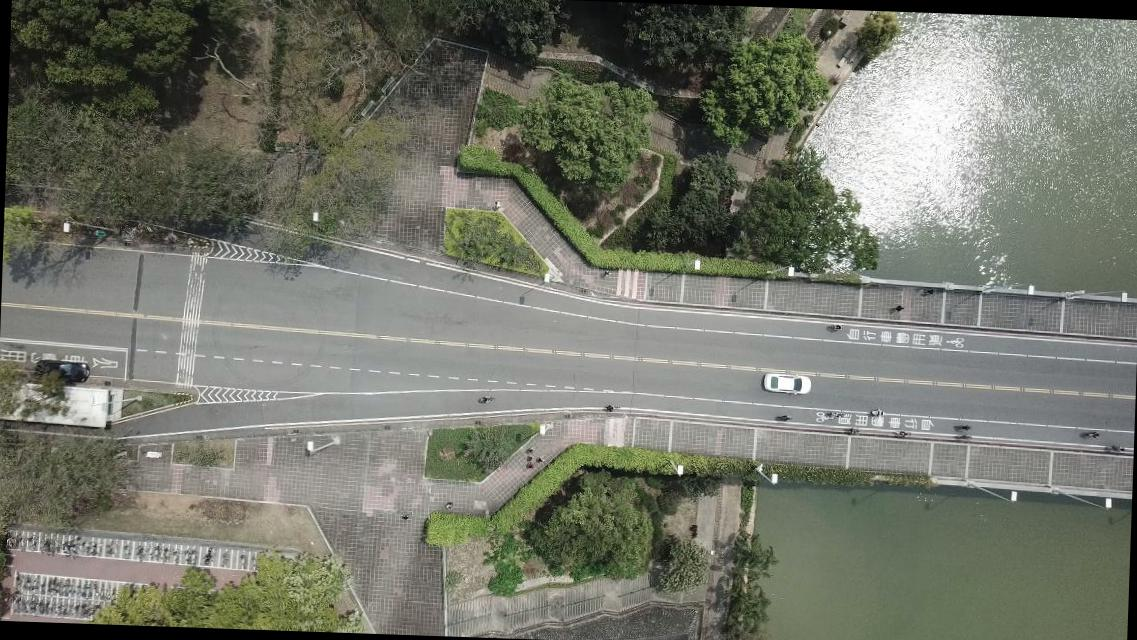vehicle: (34, 358, 88, 384), (760, 372, 810, 394)
